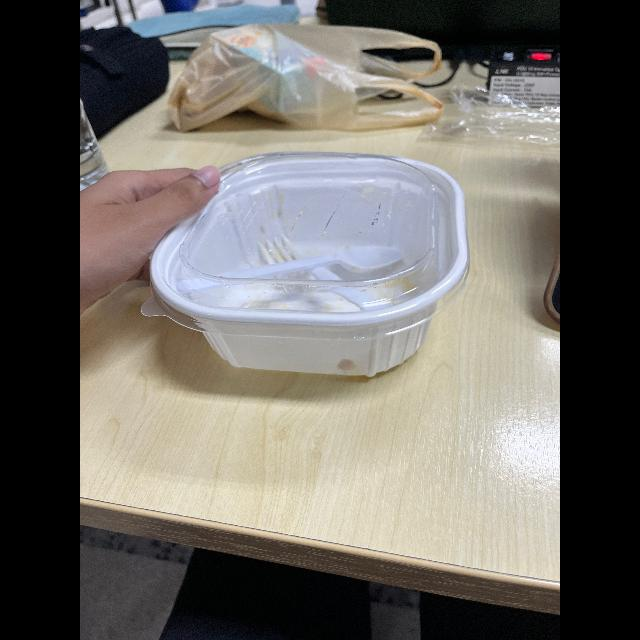plastic_box: (138, 144, 476, 390)
